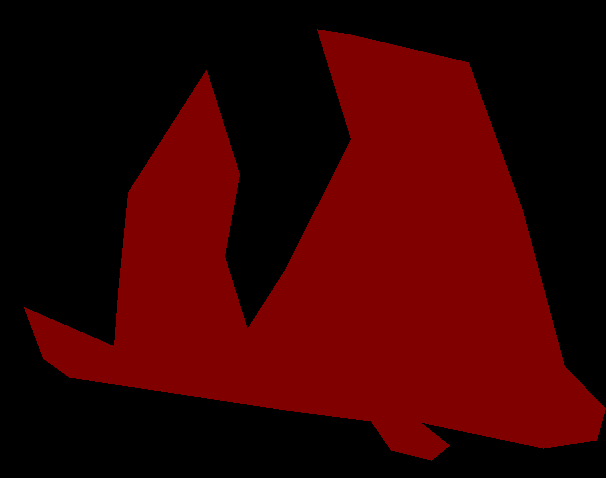fire: (24, 29, 605, 460)
